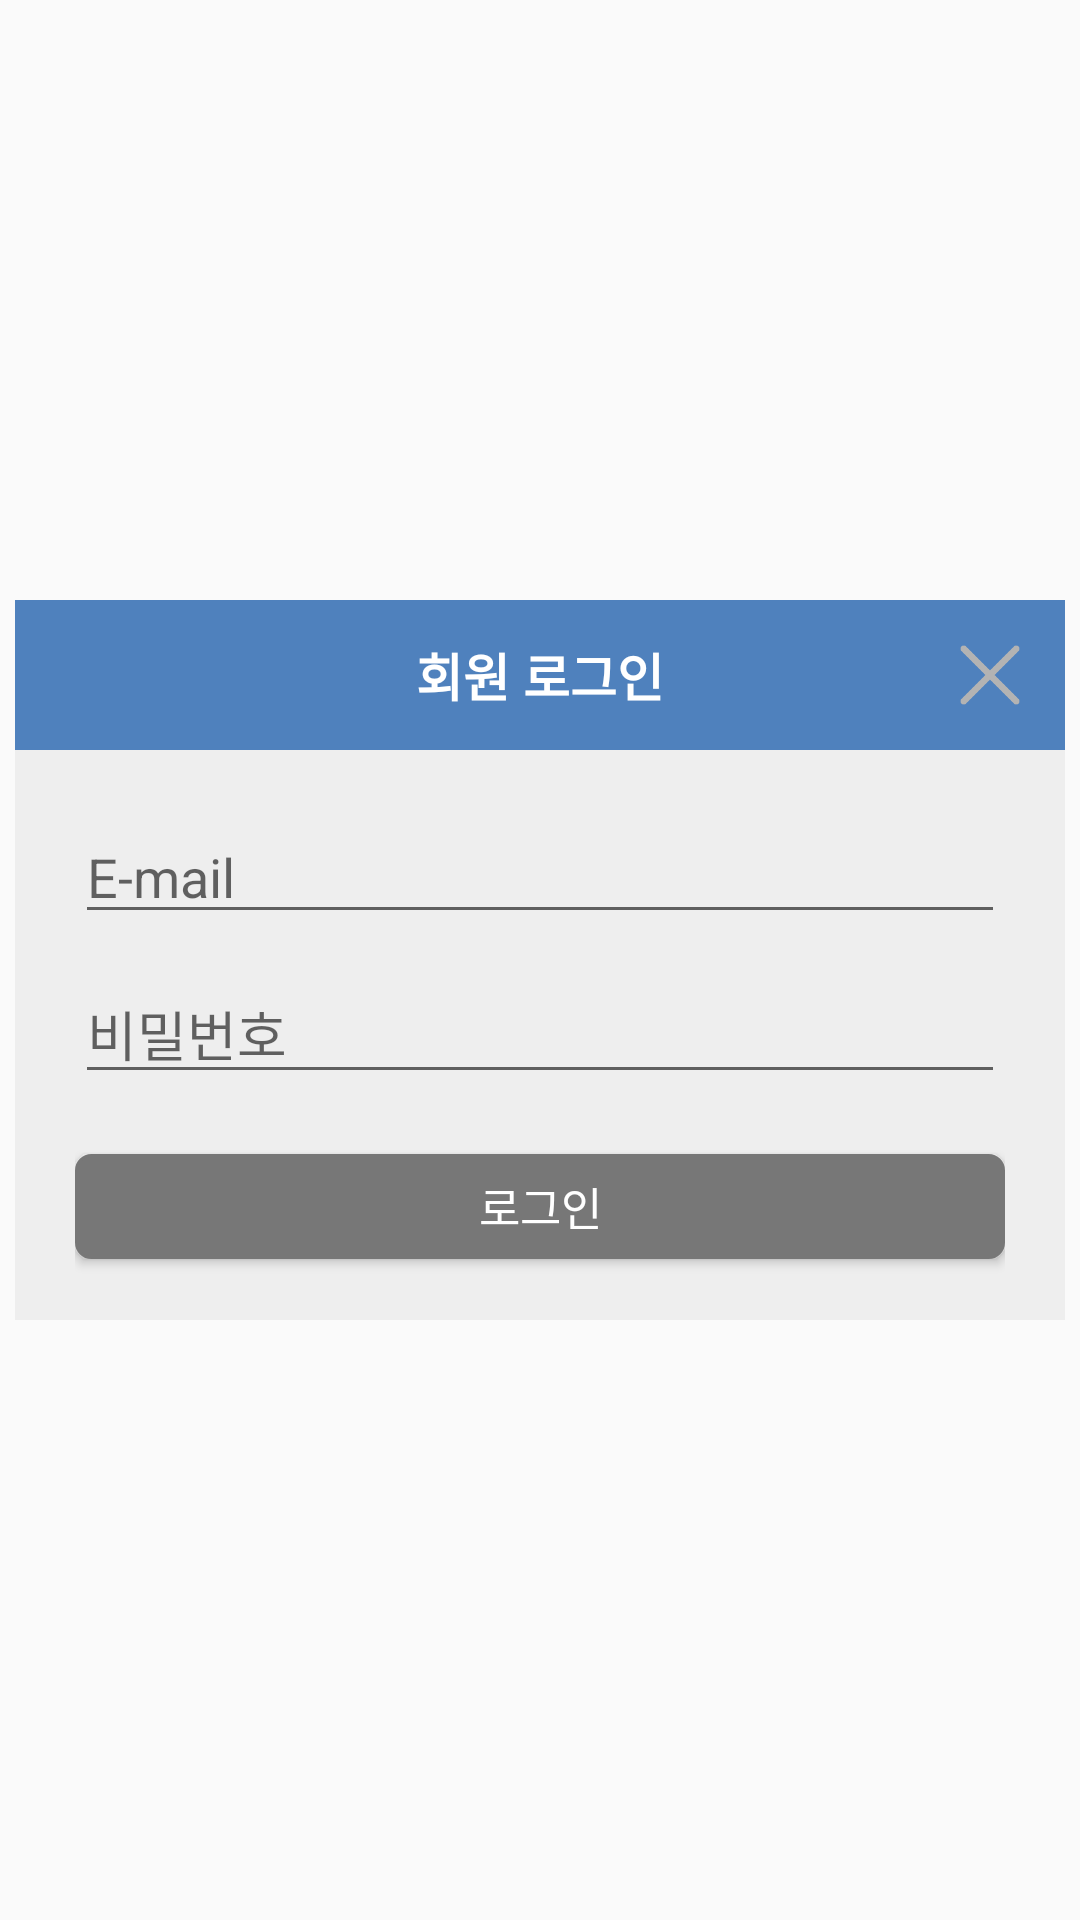

Screen size 1080w x 1920h. Icon name, then its center in pixels as (x=x, y=y):
취소: (x=990, y=675)
